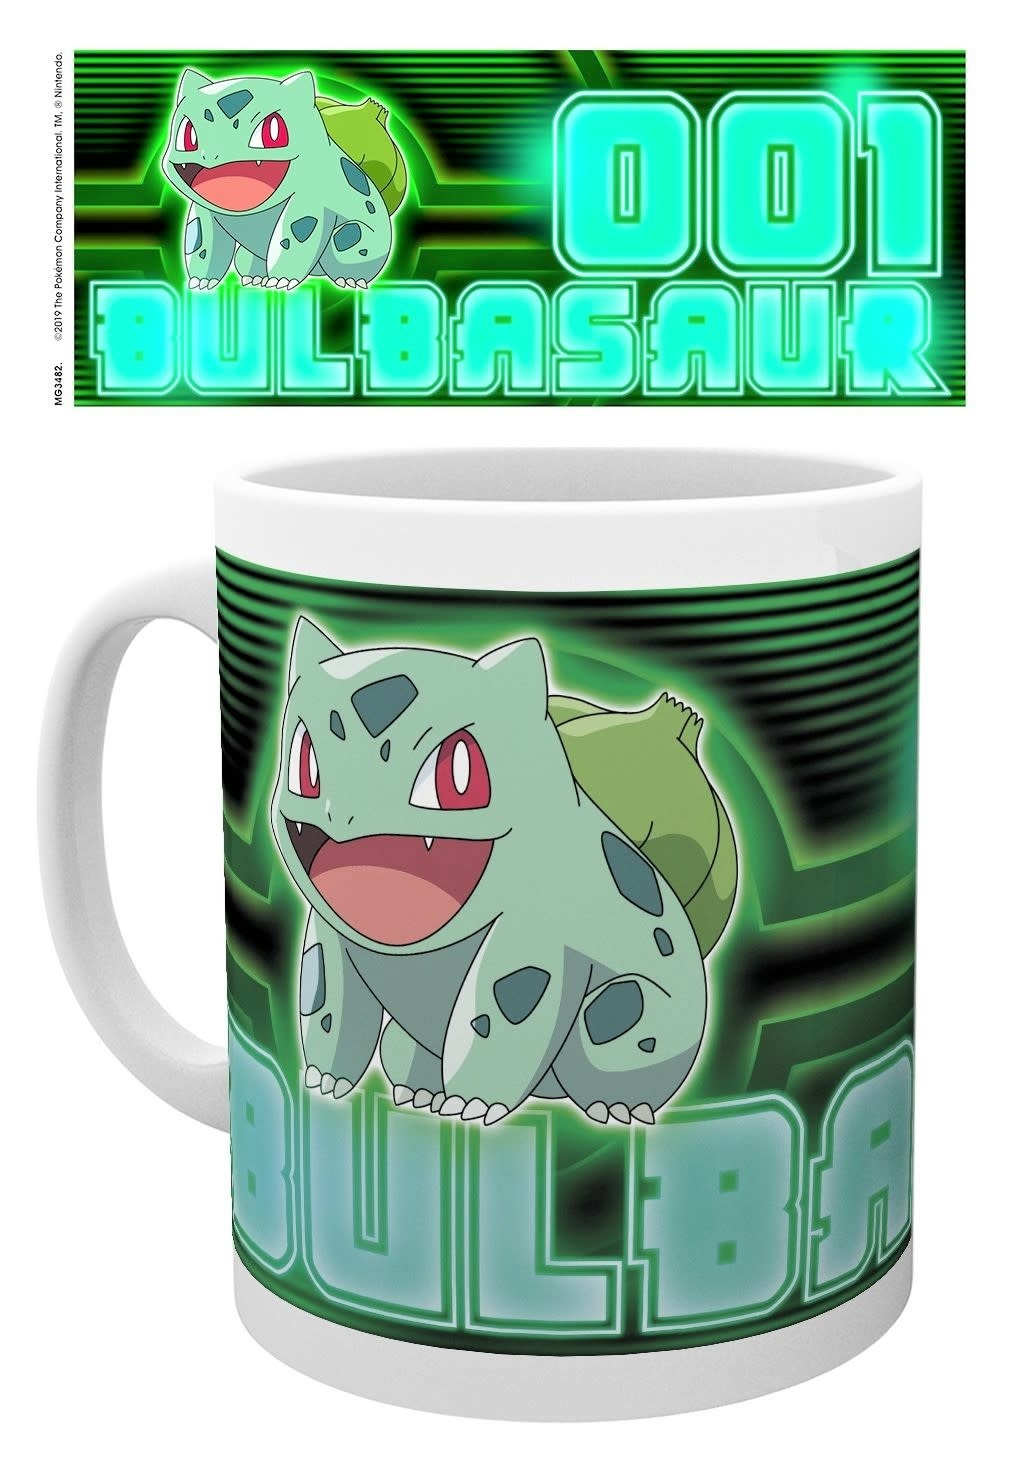001-bulbasaur: (248, 583, 741, 1144), (145, 65, 410, 299)
